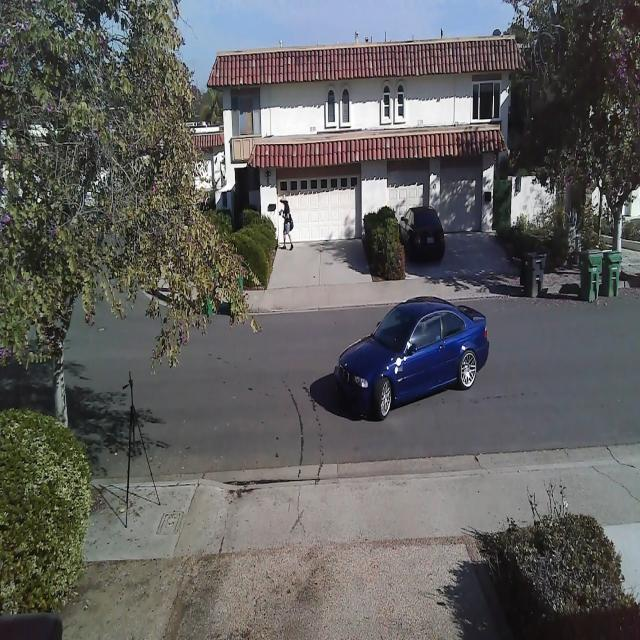Carbeetle: (322, 291, 496, 430)
Civilian: (399, 205, 445, 263)
